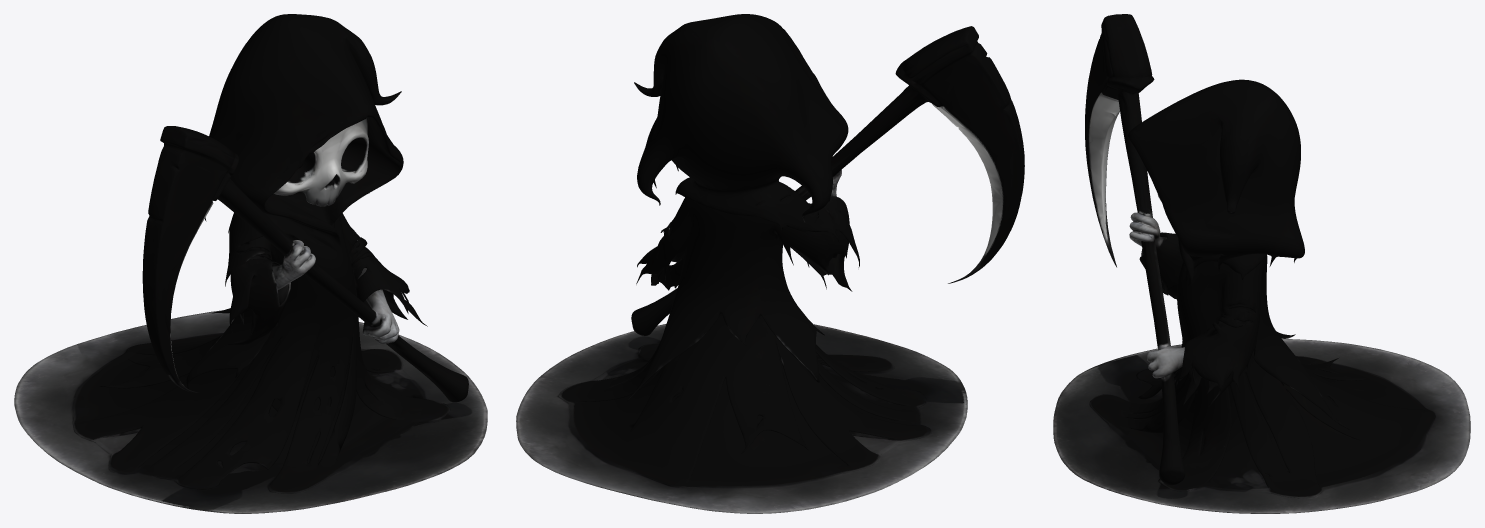
File: Grim.glb
The picture shows the model from 3 angles, left to right: view 1: azimuth 30°, elevation 25°; view 2: azimuth 150°, elevation 25°; view 3: azimuth 270°, elevation 25°; orthographic projection. The views are drawn at different scales.
Parts seen in each view (by area): view 1: material; view 2: material; view 3: material.
Part boxes in pixels (x1=…): material: x1=14, y1=14, x2=487, y2=513; material: x1=516, y1=14, x2=1024, y2=513; material: x1=1053, y1=14, x2=1470, y2=513.
Bounding box in the file's own units: 0.8468 × 0.7962 × 0.8462.
Materials: 1 (1 with a texture image).
